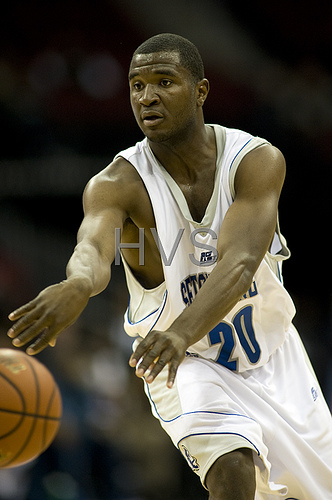basketball: (1, 349, 62, 470)
